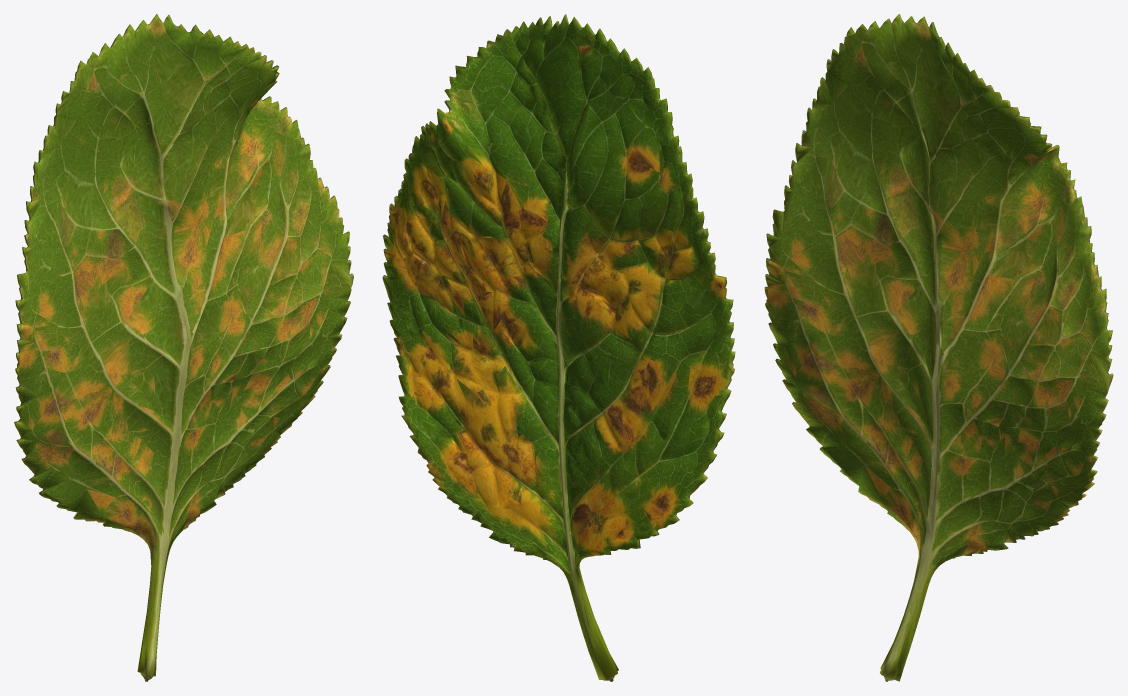
Rendered from apple_cedar_apple_rust.glb.
3 views of the same model, side by side, from view 1: azimuth 30°, elevation 25°; view 2: azimuth 150°, elevation 25°; view 3: azimuth 330°, elevation 25° (orthographic). The views are drawn at different scales.
Visible parts, largest first — view 1: apple_cedar_apple_rust; view 2: apple_cedar_apple_rust; view 3: apple_cedar_apple_rust.
Boxes of the visible parts, x1=… form: apple_cedar_apple_rust: x1=14, y1=14, x2=353, y2=681; apple_cedar_apple_rust: x1=382, y1=14, x2=735, y2=681; apple_cedar_apple_rust: x1=764, y1=14, x2=1113, y2=681.
Bounding box in the file's own units: 0.5452 × 1 × 0.0931.
Materials: 1 (1 with a texture image).
